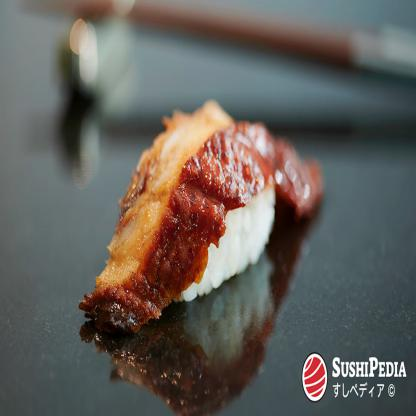unagi: (73, 93, 327, 358)
